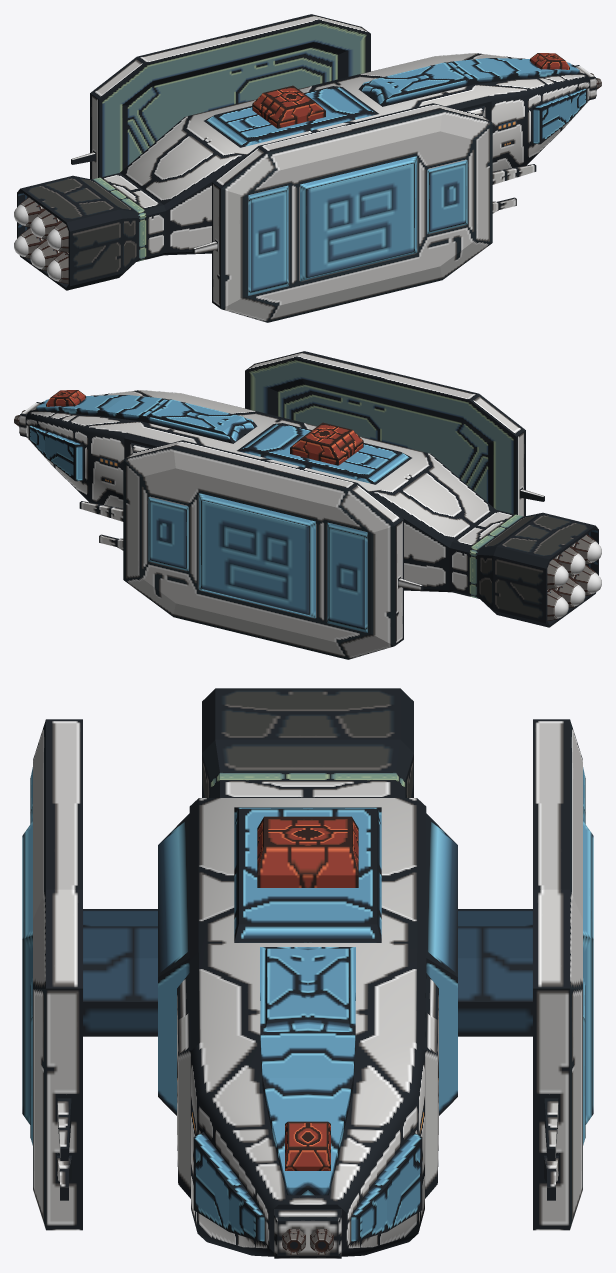
File: ship_1.fbx
3 renders of one model, top to bottom at view 1: azimuth 30°, elevation 25°; view 2: azimuth 150°, elevation 25°; view 3: azimuth 270°, elevation 25°, orthographic. The views are drawn at different scales.
Visible parts, largest first — view 1: Armor_1.001, main_hull, Armor_1, Engine, Power_Generator, Power_Generator.002; view 2: Armor_1, main_hull, Armor_1.001, Engine, Power_Generator, Power_Generator.002; view 3: main_hull, Armor_1, Armor_1.001, Engine, Struts, Power_Generator, Power_Generator.002.
Boxes of the visible parts, x1=… form: Armor_1.001: x1=192, y1=103, x2=536, y2=322; main_hull: x1=120, y1=53, x2=596, y2=255; Armor_1: x1=71, y1=14, x2=370, y2=179; Engine: x1=17, y1=173, x2=166, y2=290; Power_Generator: x1=252, y1=85, x2=325, y2=128; Power_Generator.002: x1=529, y1=53, x2=569, y2=69; Armor_1: x1=79, y1=440, x2=423, y2=659; main_hull: x1=19, y1=390, x2=495, y2=592; Armor_1.001: x1=245, y1=351, x2=544, y2=516; Engine: x1=449, y1=510, x2=598, y2=627; Power_Generator: x1=290, y1=422, x2=363, y2=465; Power_Generator.002: x1=46, y1=390, x2=86, y2=406; main_hull: x1=158, y1=798, x2=457, y2=1258; Armor_1: x1=533, y1=719, x2=593, y2=1230; Armor_1.001: x1=22, y1=719, x2=82, y2=1230; Engine: x1=202, y1=688, x2=413, y2=797; Struts: x1=83, y1=909, x2=532, y2=1036; Power_Generator: x1=257, y1=816, x2=358, y2=887; Power_Generator.002: x1=285, y1=1121, x2=330, y2=1170.
Size of the model in its own units: 713 by 206 by 313.
1 material, 1 textured.
